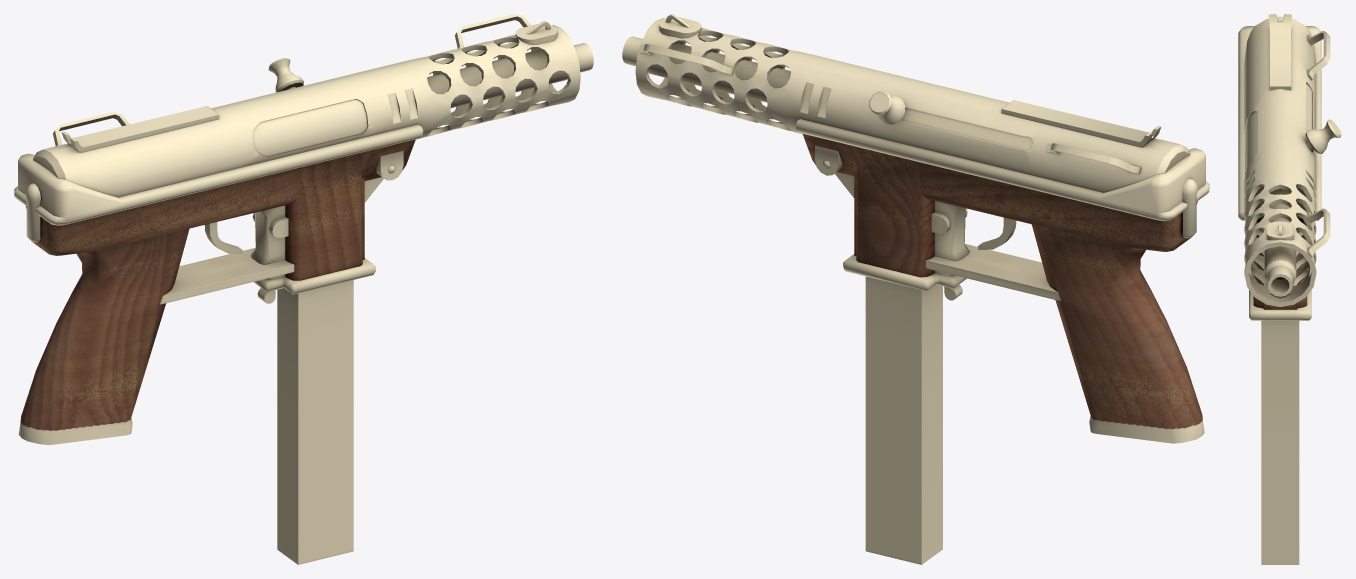
Rendered from weapon_22_0.gltf.
3 views of the same model, side by side, from view 1: azimuth 30°, elevation 25°; view 2: azimuth 150°, elevation 25°; view 3: azimuth 270°, elevation 25° (orthographic). The views are drawn at different scales.
Parts seen in each view (by area): view 1: Cylinder.008_Cylinder.018; view 2: Cylinder.008_Cylinder.018; view 3: Cylinder.008_Cylinder.018.
Part boxes in pixels (x1,y1,x2,y2): Cylinder.008_Cylinder.018: [14, 14, 593, 564]; Cylinder.008_Cylinder.018: [622, 14, 1209, 564]; Cylinder.008_Cylinder.018: [1238, 14, 1341, 564].
Bounding box in the file's own units: 11613 × 9315 × 2025.
Materials: 1 (1 with a texture image).
